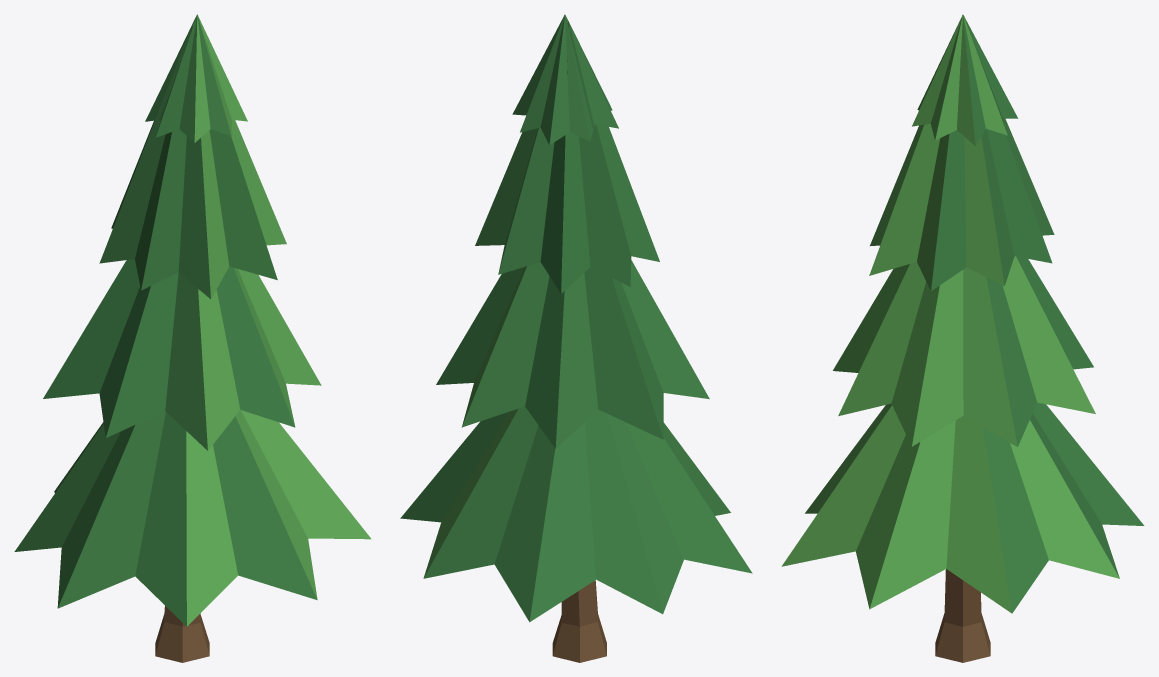
Rendered from tree_pine_b.glb.
The picture shows the model from 3 angles, left to right: view 1: azimuth 30°, elevation 25°; view 2: azimuth 150°, elevation 25°; view 3: azimuth 270°, elevation 25°; orthographic projection.
Parts seen in each view (by area): view 1: tree_pine_b; view 2: tree_pine_b; view 3: tree_pine_b.
Part boxes in pixels (bbox=[...]): tree_pine_b: bbox=[14, 14, 371, 662]; tree_pine_b: bbox=[400, 14, 752, 662]; tree_pine_b: bbox=[781, 14, 1144, 662].
Bounding box in the file's own units: 4.54 × 9 × 4.61.
